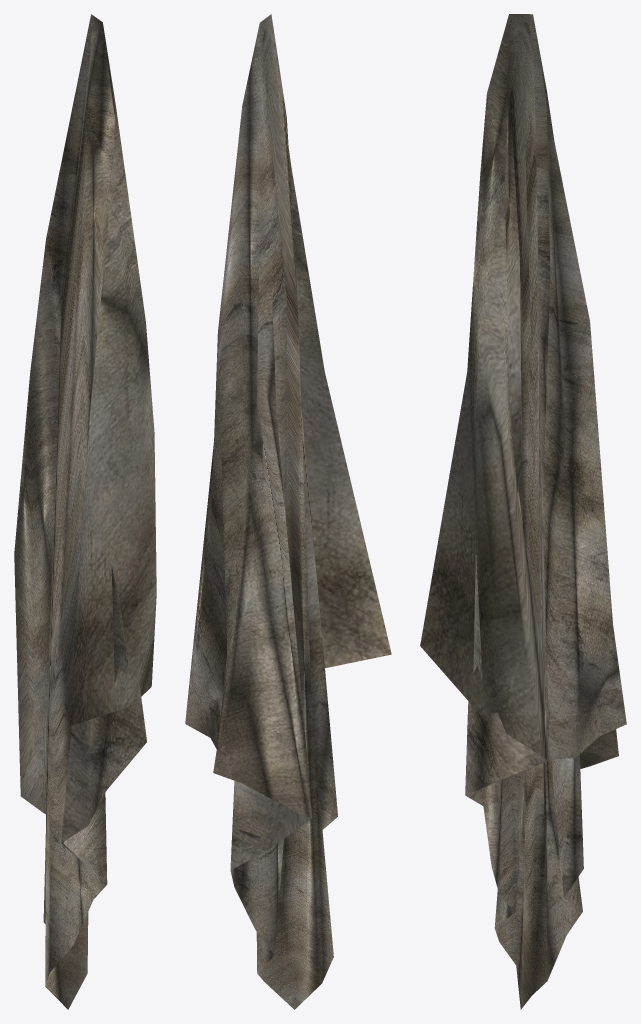
Rendered from KM_VOB_HANGINGCLOTH_02.glb.
3 renders of one model, left to right at view 1: azimuth 30°, elevation 25°; view 2: azimuth 150°, elevation 25°; view 3: azimuth 270°, elevation 25°, orthographic. The views are drawn at different scales.
Visible parts, largest first — view 1: Mesh; view 2: Mesh; view 3: Mesh.
Part boxes in pixels (x1,y1,x2,y2): Mesh: (14,14,156,1009); Mesh: (185,14,391,1009); Mesh: (420,14,626,1009).
Bounding box in the file's own units: 0.2512 × 1.66 × 0.3086.
Materials: 1 (1 with a texture image).
